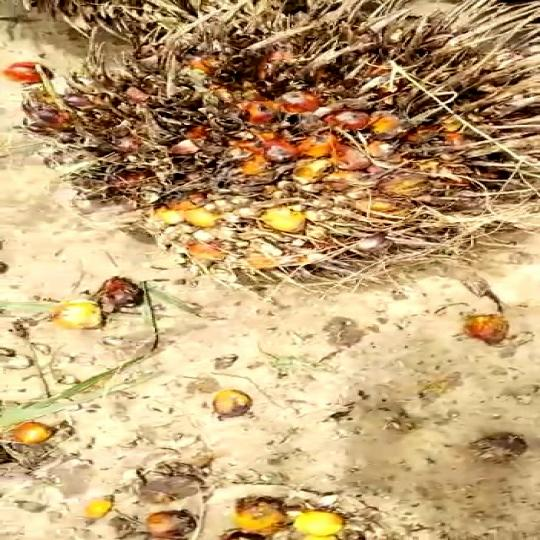terlalu masak: (16, 0, 540, 301)
